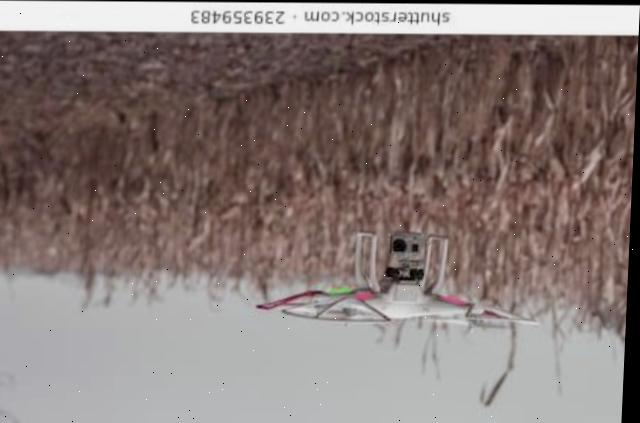drone: (246, 213, 554, 354)
